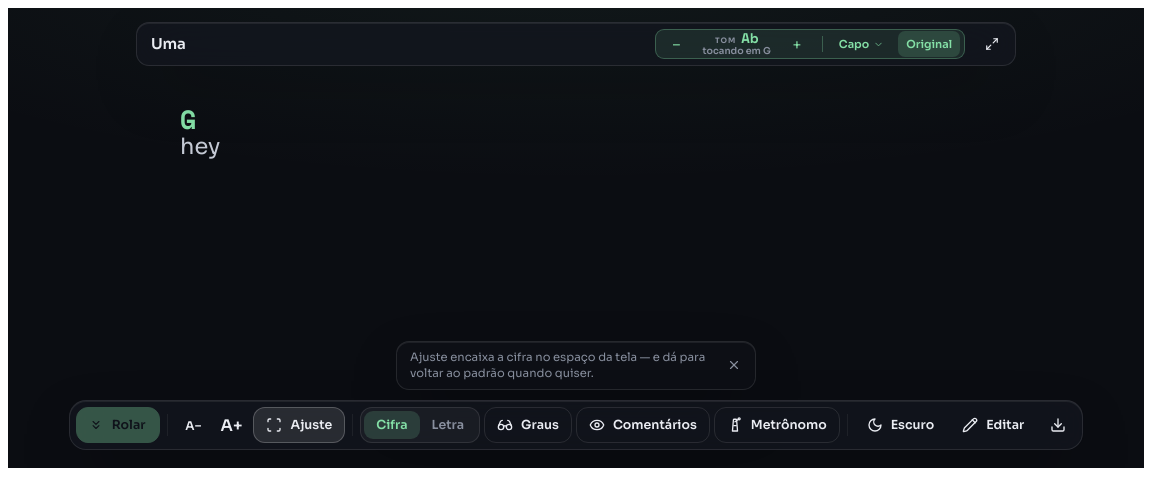
TitanChordpro › applies a saved {transpose:} on the transpose control
Expected: the text "Ab" is shown, [741,31,758,45]
Expected: the text "tocando em G" is shown, [702,46,771,57]
Click the button "+" at [797, 44], box [780,31,814,57]
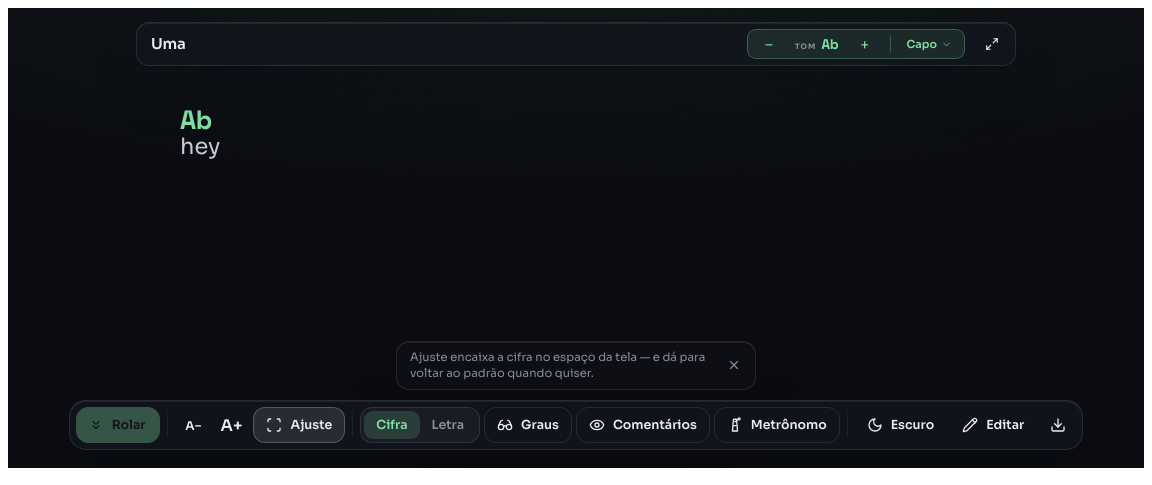
Expected: the text "Ab" next to "Tom" is shown, [821,33,838,54]
Expected: the text with class "titan-chordpro-chord" reads "Ab", [180,99,212,139]
Click the button "+" at [865, 44], box [848,31,882,57]
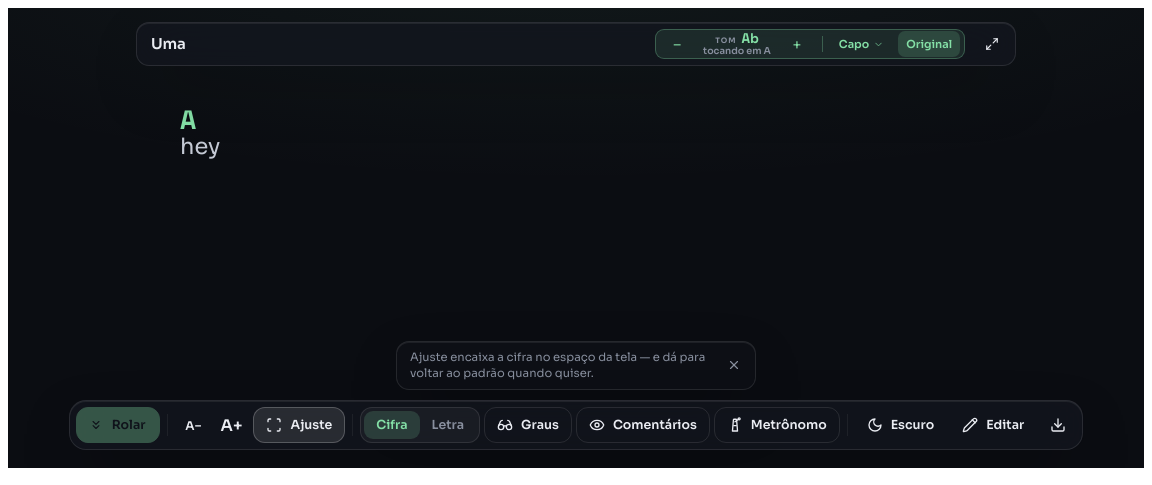
Expected: the text "Ab" is shown, [742,31,759,45]
Now the text "tocando em A" is shown, box [703,46,771,57]
